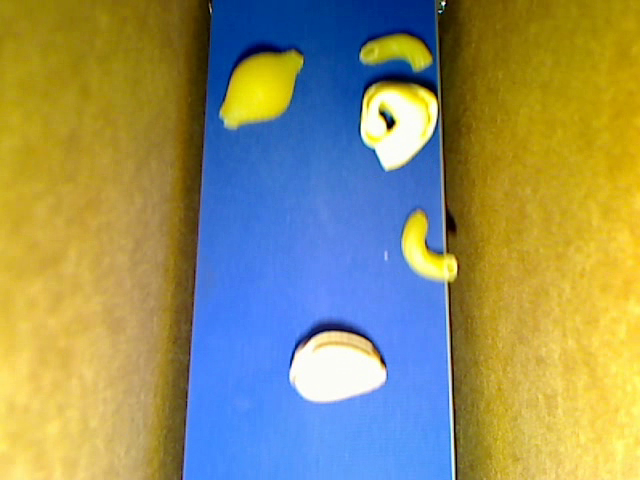elbow: (400, 206, 457, 282), (357, 32, 433, 74)
shell: (219, 48, 304, 131)
tortellini: (361, 82, 438, 172)
